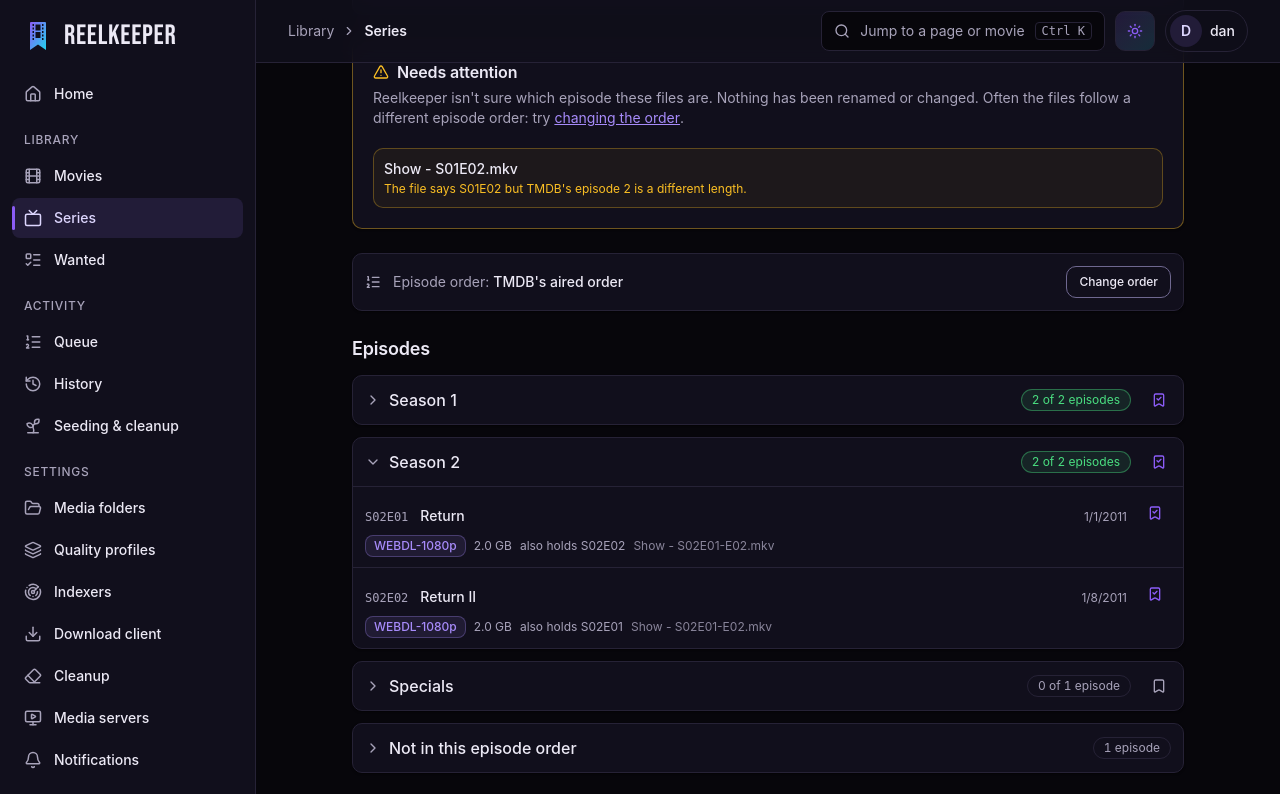
series page › flags files Reelkeeper isn't sure about, in the episode and in Needs attention
(page scrolled)
Click the button "Season 1 2 of 2 episodes" at [423, 400], box [353,376,1143,424]
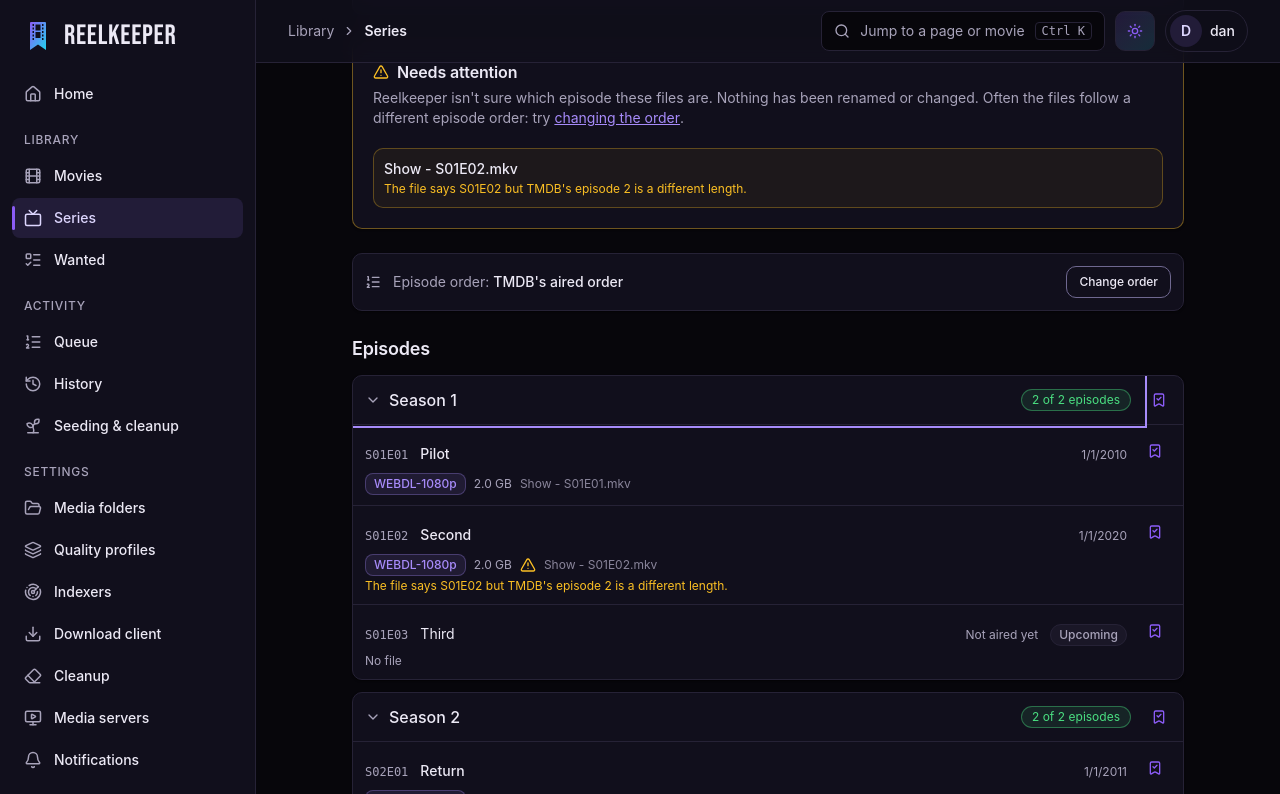
Expected: the element "Needs attention" is shown, [353,40,1183,128]
Expected: the text "The file says S01E02 but TMDB's episode 2 is a different length." is shown 2 times, [384,181,747,196]; [365,578,728,593]
Expected: the icon named "Needs attention" is shown, [520,557,536,573]
